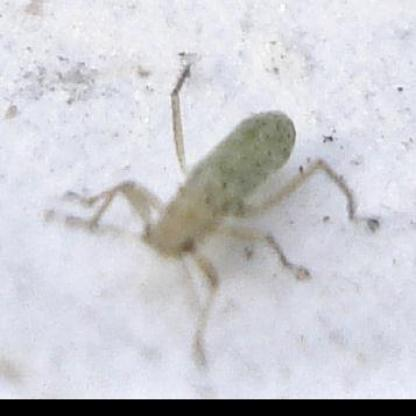aphid: (64, 58, 352, 325)
